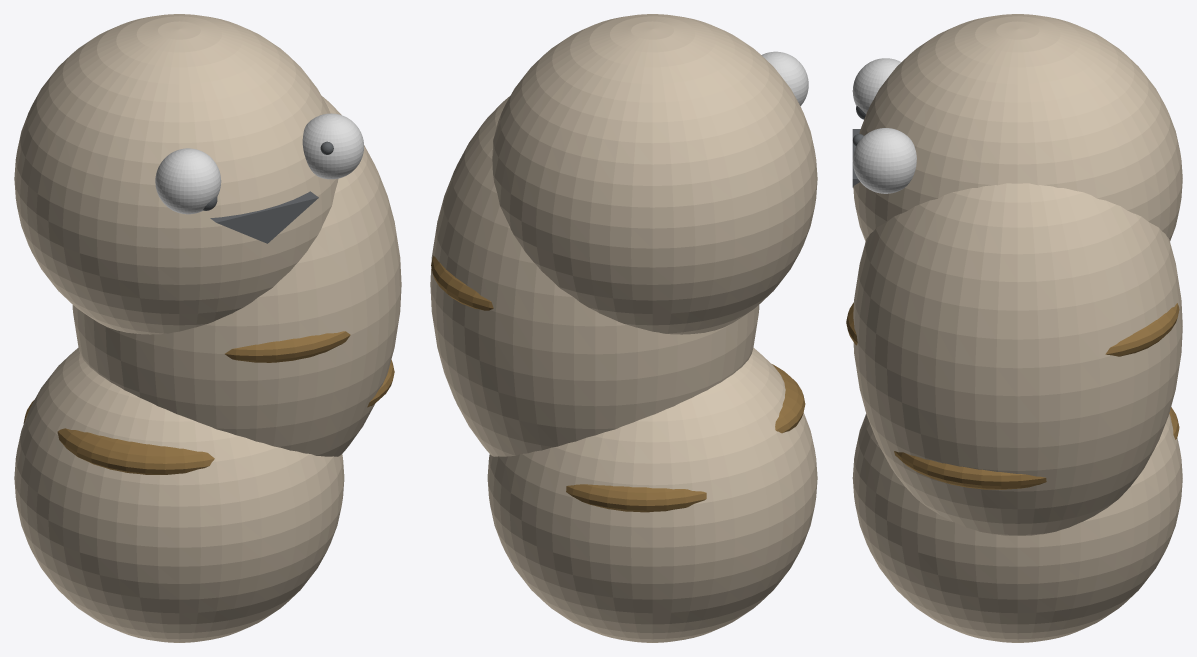
File: tata.glb
3 views of the same model, side by side, from view 1: azimuth 30°, elevation 25°; view 2: azimuth 150°, elevation 25°; view 3: azimuth 270°, elevation 25° (orthographic).
Visible parts, largest first — view 1: Mesh_Mesh_head_geo.001_lambert2SG.001; view 2: Mesh_Mesh_head_geo.001_lambert2SG.001; view 3: Mesh_Mesh_head_geo.001_lambert2SG.001.
Part boxes in pixels (x1,y1,x2,y2): Mesh_Mesh_head_geo.001_lambert2SG.001: (14, 14, 401, 642); Mesh_Mesh_head_geo.001_lambert2SG.001: (430, 14, 817, 642); Mesh_Mesh_head_geo.001_lambert2SG.001: (846, 14, 1182, 642).
Size of the model in its own units: 6 by 10 by 5.1.
